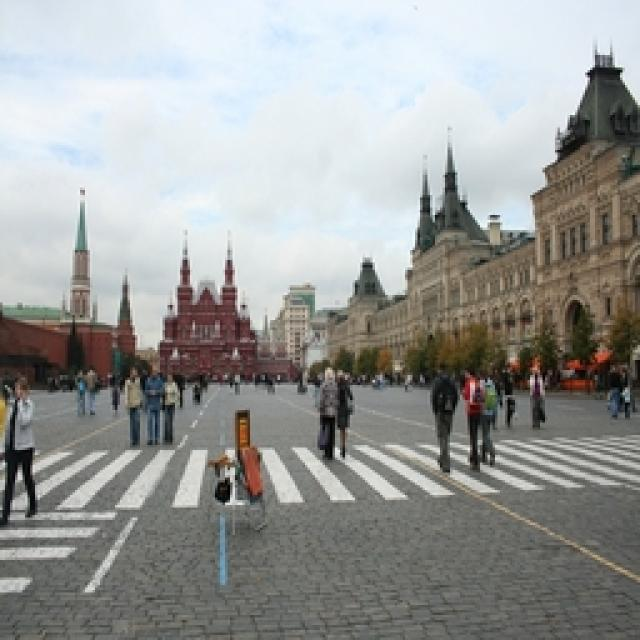Abbey: (310, 102, 640, 381)
